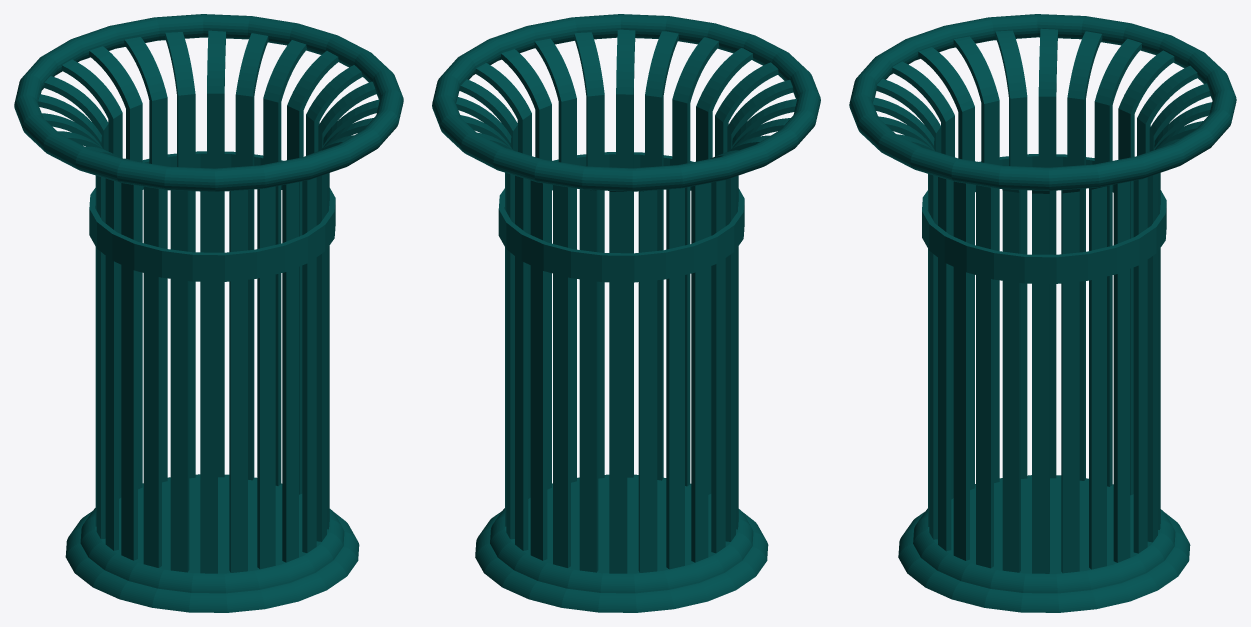
3 views of the same model, side by side, from view 1: azimuth 30°, elevation 25°; view 2: azimuth 150°, elevation 25°; view 3: azimuth 270°, elevation 25° (orthographic).
Visible parts, largest first — view 1: mesh25_mesh25-geometry, mesh27_mesh27-geometry, mesh28_mesh28-geometry, mesh4_mesh4-geometry, mesh9_mesh9-geometry, mesh7_mesh7-geometry, mesh6_mesh6-geometry, mesh5_mesh5-geometry, mesh3_mesh3-geometry, mesh8_mesh8-geometry, mesh12_mesh12-geometry, mesh2_mesh2-geometry (+15 smaller); view 2: mesh25_mesh25-geometry, mesh27_mesh27-geometry, mesh28_mesh28-geometry, mesh23_mesh23-geometry, mesh19_mesh19-geometry, mesh24_mesh24-geometry, mesh22_mesh22-geometry, mesh20_mesh20-geometry, mesh1_mesh1-geometry, mesh21_mesh21-geometry, mesh2_mesh2-geometry, mesh17_mesh17-geometry (+15 smaller); view 3: mesh25_mesh25-geometry, mesh27_mesh27-geometry, mesh28_mesh28-geometry, mesh13_mesh13-geometry, mesh15_mesh15-geometry, mesh14_mesh14-geometry, mesh16_mesh16-geometry, mesh10_mesh10-geometry, mesh18_mesh18-geometry, mesh11_mesh11-geometry, mesh17_mesh17-geometry, mesh12_mesh12-geometry (+15 smaller).
Boxes of the visible parts, left/top/right/bottom form: mesh25_mesh25-geometry: left=14, top=14, right=403, bottom=191; mesh27_mesh27-geometry: left=65, top=474, right=359, bottom=612; mesh28_mesh28-geometry: left=89, top=151, right=335, bottom=281; mesh4_mesh4-geometry: left=170, top=190, right=189, bottom=572; mesh9_mesh9-geometry: left=229, top=190, right=247, bottom=572; mesh7_mesh7-geometry: left=257, top=186, right=275, bottom=569; mesh6_mesh6-geometry: left=122, top=158, right=161, bottom=567; mesh5_mesh5-geometry: left=200, top=191, right=217, bottom=573; mesh3_mesh3-geometry: left=86, top=146, right=137, bottom=560; mesh8_mesh8-geometry: left=282, top=150, right=321, bottom=562; mesh12_mesh12-geometry: left=302, top=135, right=353, bottom=552; mesh2_mesh2-geometry: left=58, top=131, right=118, bottom=550; mesh25_mesh25-geometry: left=432, top=14, right=820, bottom=191; mesh27_mesh27-geometry: left=475, top=474, right=768, bottom=612; mesh28_mesh28-geometry: left=498, top=152, right=744, bottom=282; mesh23_mesh23-geometry: left=638, top=190, right=657, bottom=572; mesh19_mesh19-geometry: left=579, top=189, right=598, bottom=572; mesh24_mesh24-geometry: left=609, top=191, right=627, bottom=573; mesh22_mesh22-geometry: left=666, top=188, right=684, bottom=569; mesh20_mesh20-geometry: left=553, top=185, right=570, bottom=567; mesh1_mesh1-geometry: left=691, top=150, right=738, bottom=562; mesh21_mesh21-geometry: left=507, top=148, right=547, bottom=560; mesh2_mesh2-geometry: left=711, top=135, right=769, bottom=553; mesh17_mesh17-geometry: left=477, top=132, right=528, bottom=550; mesh25_mesh25-geometry: left=849, top=14, right=1236, bottom=190; mesh27_mesh27-geometry: left=898, top=475, right=1190, bottom=612; mesh28_mesh28-geometry: left=922, top=154, right=1166, bottom=283; mesh13_mesh13-geometry: left=1061, top=189, right=1079, bottom=573; mesh15_mesh15-geometry: left=1002, top=189, right=1020, bottom=572; mesh14_mesh14-geometry: left=1032, top=190, right=1049, bottom=573; mesh16_mesh16-geometry: left=1089, top=186, right=1106, bottom=569; mesh10_mesh10-geometry: left=976, top=185, right=993, bottom=568; mesh18_mesh18-geometry: left=1113, top=181, right=1130, bottom=562; mesh11_mesh11-geometry: left=953, top=181, right=969, bottom=560; mesh17_mesh17-geometry: left=1133, top=139, right=1179, bottom=553; mesh12_mesh12-geometry: left=897, top=134, right=951, bottom=551.
Size of the model in its own units: 0.52 by 0.6776 by 0.52.
